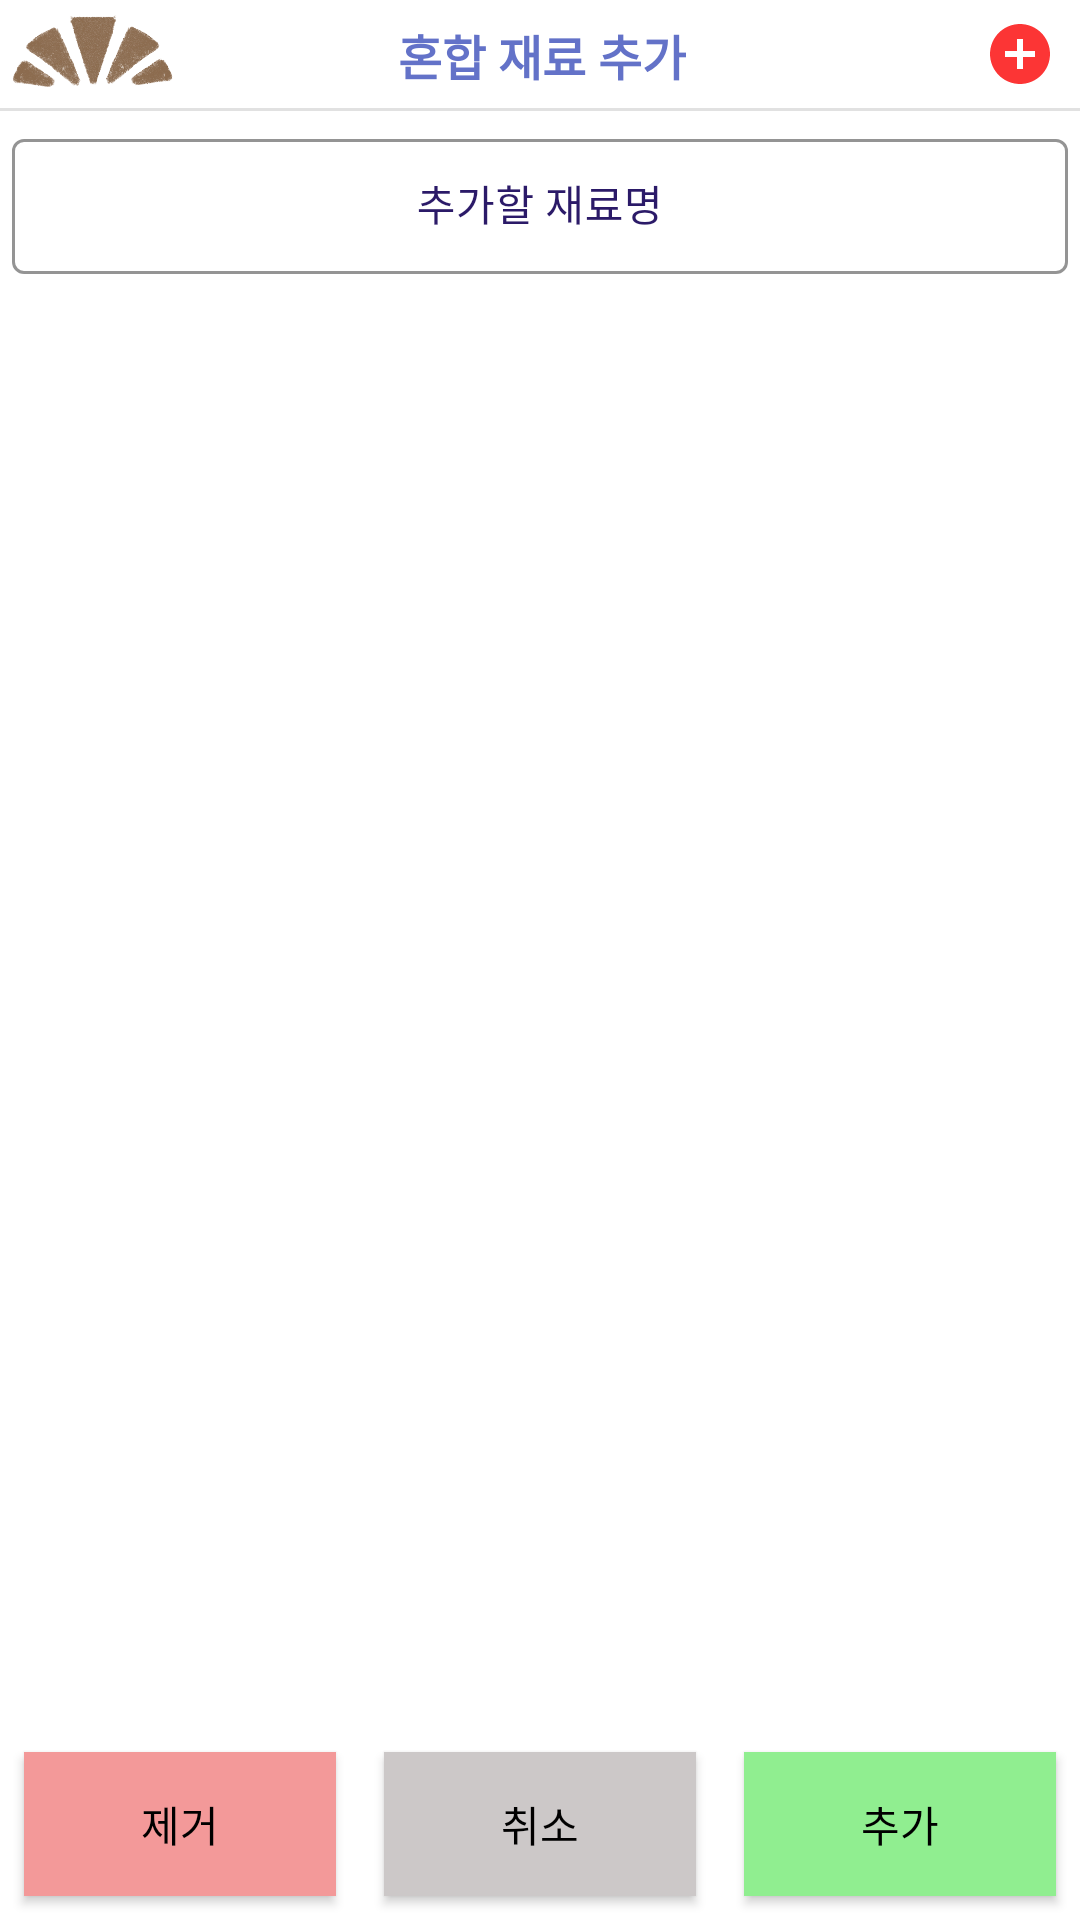

Icon click points for this 1080×1920 phone screenshot, format point (x, y):
add circle: point (1020, 54)
